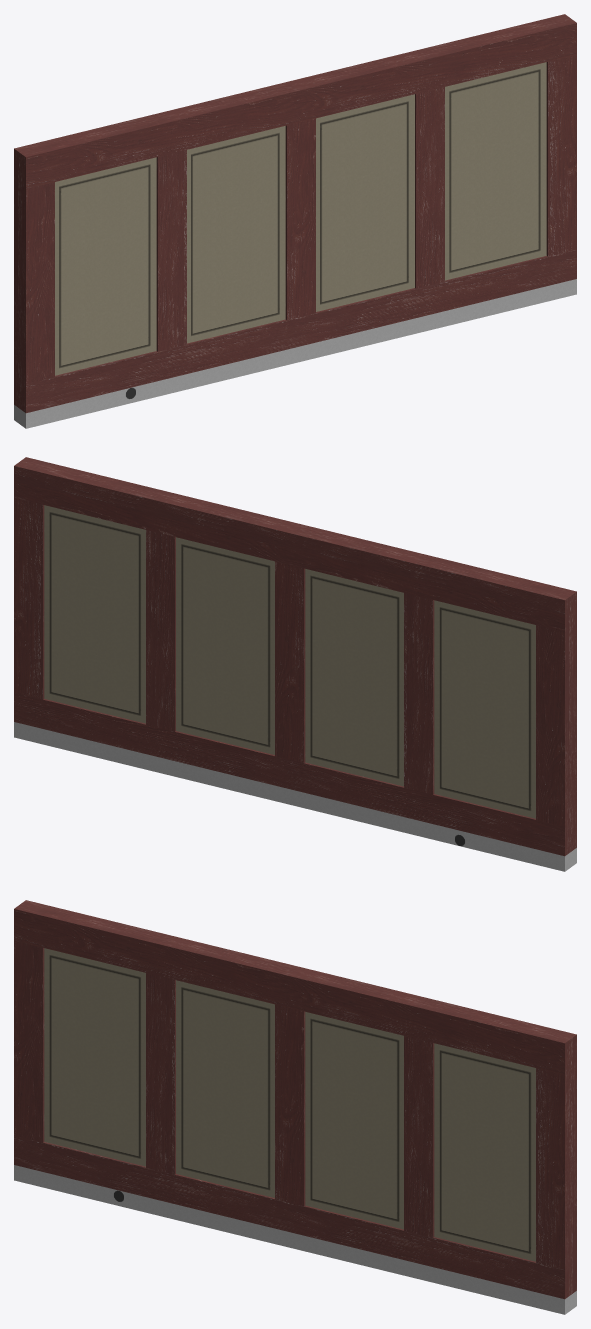
Rendered from SM_Sun_Kak_Wall_A.fbx.
3 renders of one model, top to bottom at view 1: azimuth 30°, elevation 25°; view 2: azimuth 150°, elevation 25°; view 3: azimuth 330°, elevation 25°, orthographic.
Parts seen in each view (by area): view 1: SM_Sun_Kak_Wall_A; view 2: SM_Sun_Kak_Wall_A; view 3: SM_Sun_Kak_Wall_A.
Boxes of the visible parts, bbox=[...] form: SM_Sun_Kak_Wall_A: bbox=[14, 14, 576, 428]; SM_Sun_Kak_Wall_A: bbox=[14, 457, 576, 871]; SM_Sun_Kak_Wall_A: bbox=[14, 900, 576, 1314].
Bounding box in the file's own units: 397 × 187 × 15.
